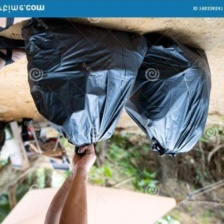plastic_bag: (16, 14, 154, 154), (118, 28, 212, 159)
